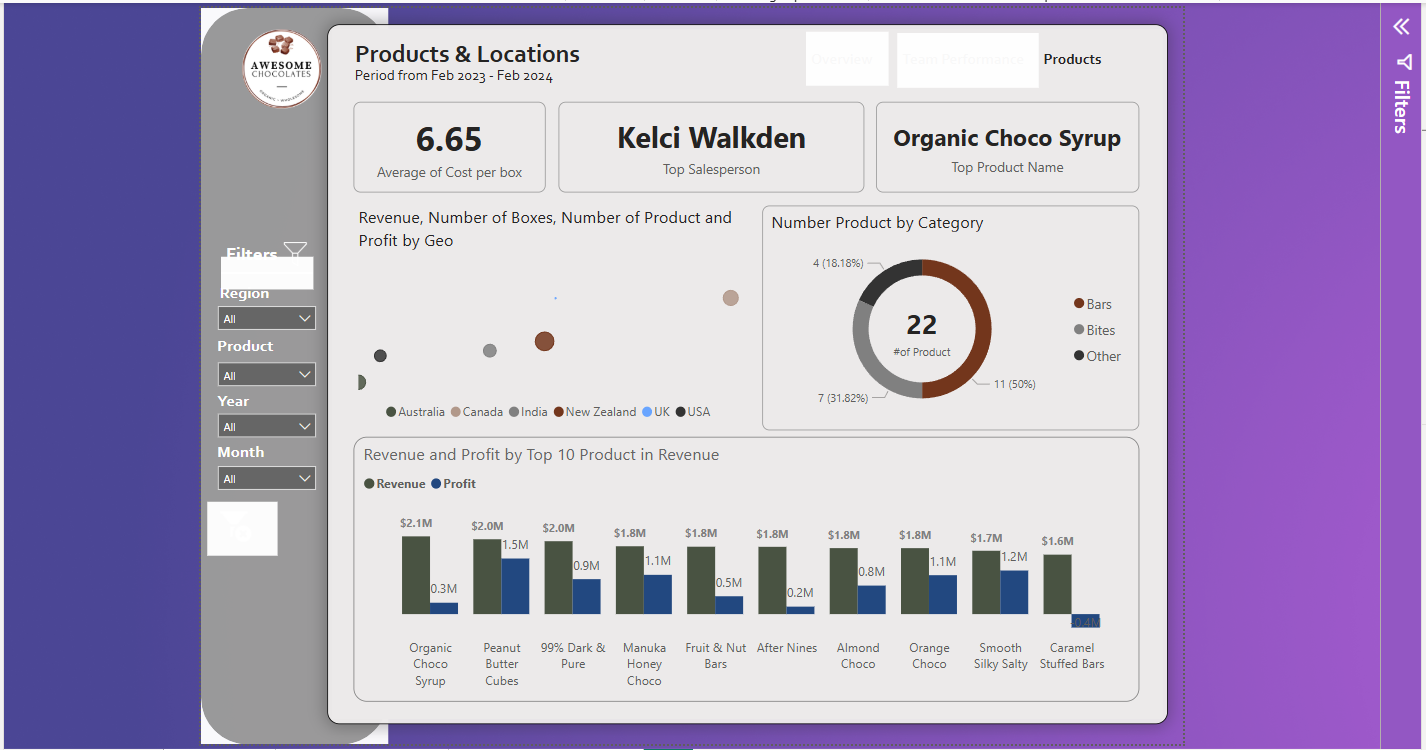

The page's visual inventory and layout, read from the dashboard file:
{"tool":"powerbi","page":{"name":"Products & Locations","canvas":[960,720],"ordinal":2},"visuals":[{"type":"shape","box":[0,0,183,720.6],"z":0},{"type":"shape","box":[123.1,16.2,822.6,684.9],"z":1000},{"type":"image","box":[35.6,16.2,87.4,87.4],"z":2000},{"type":"textbox","box":[19.4,223.5,72.9,35.6],"z":3000},{"type":"image","box":[74.5,215.4,35.6,51.8],"z":4000},{"type":"shape","box":[19.4,242.9,90.7,32.4],"z":5000},{"type":"slicer","fields":{"Values":["locations.Region"]},"box":[6.5,281.7,116.6,51.8],"z":6000},{"type":"slicer","fields":{"Values":["products.Product"]},"box":[6.5,336.8,116.6,50.2],"z":7000},{"type":"slicer","fields":{"Values":["calendar.Date.Variation.Date Hierarchy.Year"]},"box":[6.5,387,116.6,50.2],"z":8000},{"type":"textbox","box":[11.3,369.2,72.9,35.6],"z":9000},{"type":"textbox","box":[11.3,315.7,72.9,35.6],"z":10000},{"type":"textbox","box":[13,263.9,72.9,35.6],"z":11000},{"type":"textbox","box":[145.5,24.5,260.5,51.4],"z":12000},{"type":"textbox","box":[145.7,51.8,242.9,51.8],"z":13000},{"type":"slicer","fields":{"Values":["calendar.Date.Variation.Date Hierarchy.Month"]},"box":[6.5,437.2,116.6,51.8],"z":14000},{"type":"textbox","box":[11.3,419.4,72.9,35.6],"z":15000},{"type":"image","box":[8.6,483,47.7,44],"z":16000},{"type":"actionButton","box":[6.1,483,68.5,52.6],"z":17000},{"type":"textbox","box":[591.9,35.5,80.7,33],"z":18000},{"type":"textbox","box":[681.1,35.5,138.2,33],"z":19000},{"type":"actionButton","box":[591.9,23.2,80.7,52.6],"z":20000},{"type":"textbox","box":[819.3,35.5,80.7,33],"z":21000},{"type":"scatterChart","title":"Revenue, Number of Boxes, Number of Product and Profit by Geo","fields":{"Series":["locations.Geo"],"Y":["shipments.Boxes"],"Size":["calendar.Revenue"],"X":["shipments.Product"]},"box":[149,193,385,220],"z":22000},{"type":"donutChart","title":"Number Product by Category","fields":{"Category":["products.Category"],"Y":["shipments.Product"]},"box":[548.9,192.7,369.2,220.2],"z":23000},{"type":"clusteredColumnChart","title":"Revenue and Profit by Top 10 Product in Revenue","fields":{"Category":["products.Product"],"Y":["calendar.Revenue","calendar.Profit"]},"box":[149,419.4,769.1,259.1],"z":24000},{"type":"card","fields":{"Values":["products.Cost per box"]},"box":[149,92.3,187.8,89.1],"z":25000},{"type":"card","fields":{"Values":["Comparsions.Top Salesperson"]},"box":[349.8,92.3,299.6,89.1],"z":26000},{"type":"card","fields":{"Values":["Comparsions.Top Product Name"]},"box":[660.6,92.3,257.5,89.1],"z":27000},{"type":"card","fields":{"Values":["shipments.Product"]},"box":[656,281,100,71],"z":28000},{"type":"actionButton","box":[681.7,25,138.3,53.3],"z":29000}]}

Visuals, with their boxes on the page's 960x720 design canvas (x1, y1, x2, y2). These are canvas units, not pixel positions in the 1426x750 screenshot, which may show the page scaled, cropped or inside an application window:
shape: 0 0 183 721
shape: 123 16 946 701
image: 36 16 123 104
textbox: 19 224 92 259
image: 74 215 110 267
shape: 19 243 110 275
slicer - locations.Region: 6 282 123 334
slicer - products.Product: 6 337 123 387
slicer - calendar.Date.Variation.Date Hierarchy.Year: 6 387 123 437
textbox: 11 369 84 405
textbox: 11 316 84 351
textbox: 13 264 86 300
textbox: 146 24 406 76
textbox: 146 52 389 104
slicer - calendar.Date.Variation.Date Hierarchy.Month: 6 437 123 489
textbox: 11 419 84 455
image: 9 483 56 527
actionButton: 6 483 75 536
textbox: 592 36 673 68
textbox: 681 36 819 68
actionButton: 592 23 673 76
textbox: 819 36 900 68
"Revenue, Number of Boxes, Number of Product and Profit by Geo" scatterChart: 149 193 534 413
"Number Product by Category" donutChart: 549 193 918 413
"Revenue and Profit by Top 10 Product in Revenue" clusteredColumnChart: 149 419 918 678
card - products.Cost per box: 149 92 337 181
card - Comparsions.Top Salesperson: 350 92 649 181
card - Comparsions.Top Product Name: 661 92 918 181
card - shipments.Product: 656 281 756 352
actionButton: 682 25 820 78
